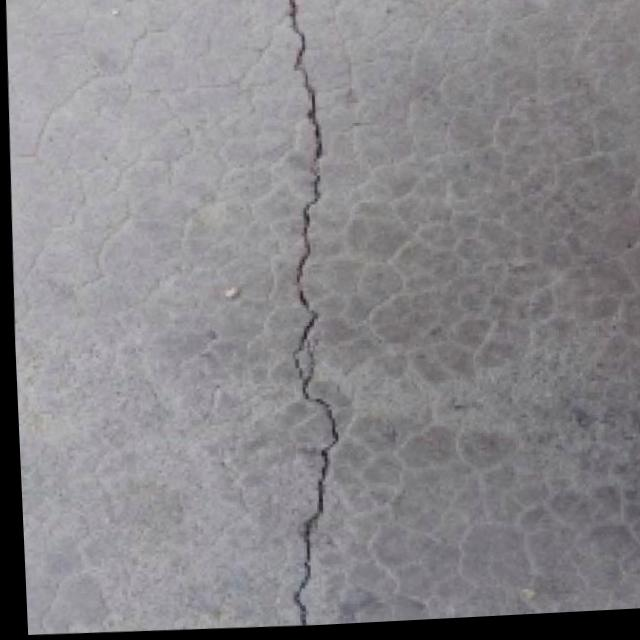Crack: (248, 0, 359, 630)
